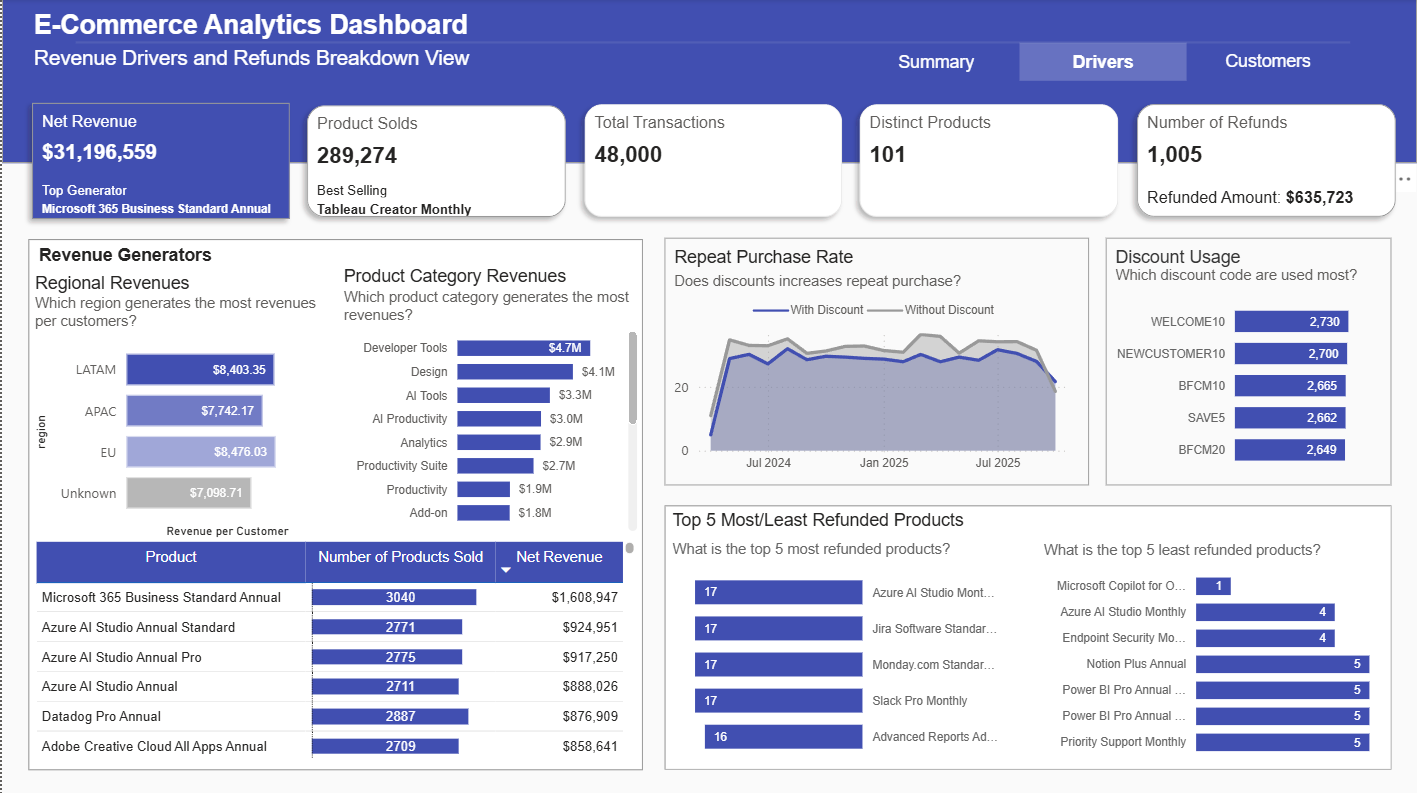

The page's visual inventory and layout, read from the dashboard file:
{"tool":"powerbi","page":{"name":"Drivers","canvas":[1280,720],"ordinal":1},"visuals":[{"type":"shape","box":[598.7,457.4,657.9,239.5],"z":2000},{"type":"shape","box":[24,216.9,556.1,480.6],"z":3000},{"type":"shape","box":[0,0,1279.7,148.6],"z":4000},{"type":"tableEx","fields":{"Values":["Products.product_name","Sum(Events.quantity)","Events.Net Revenue"]},"box":[24.5,486.2,552.6,204.9],"z":5000},{"type":"barChart","title":"Discount Usage","fields":{"Category":["Events.discount_code"],"Y":["Events.Total Transactions"]},"box":[998.4,216.4,258.3,223.6],"z":6000},{"type":"cardVisual","fields":{"Data":["Events.Total Orders"]},"box":[518.9,87.2,249.3,118.7],"z":7000},{"type":"cardVisual","fields":{"Data":["Customers.Products"]},"box":[768.2,87.2,250.5,118.7],"z":8000},{"type":"textbox","box":[24.3,5.7,760,38.6],"z":9000},{"type":"textbox","box":[24.3,38.6,760,35.7],"z":10000},{"type":"cardVisual","fields":{"Data":["Events.Total Revenue"]},"box":[18.8,86,249.6,121.2],"z":11000},{"type":"shape","box":[66.4,26.6,1152.8,26.6],"z":12000},{"type":"barChart","title":"What is the top 5 most refunded products?","fields":{"Category":["Products.product_name"],"Y":["Events.Total Refunds"]},"box":[601.1,490,320,207.8],"z":13000},{"type":"cardVisual","fields":{"Data":["Events.Total Refunds"]},"box":[1018.7,87.2,250.5,118.7],"z":14000},{"type":"cardVisual","fields":{"Data":["Events.Product Solds"]},"box":[268.4,87.8,250.5,117.5],"z":15000},{"type":"lineChart","title":"Repeat Purchase Rate","fields":{"Y":["Events.Repeat Purchase Rate"],"Category":["Events.event_date.Variation.Date Hierarchy.Year","Events.event_date.Variation.Date Hierarchy.Month"],"Series":["Events.is_discounted?"]},"box":[598.7,216.4,383.8,223.6],"z":16000},{"type":"barChart","title":"Product Category Revenues","fields":{"Category":["Products.category"],"Y":["Events.Net Revenue"]},"box":[304.4,242.4,275.6,243.8],"z":17000},{"type":"barChart","title":"Regional Revenues","fields":{"Category":["Events.region"],"Y":["Events.Revenue per Customer"]},"box":[24.5,248.2,276,243.8],"z":18000},{"type":"textbox","box":[28.8,218.1,250.5,28.8],"z":19000},{"type":"barChart","title":"What is the top 5 least refunded products?","fields":{"Y":["Events.Total Refunds"],"Category":["Products.product_name"]},"box":[937.3,490.7,320,204.6],"z":20000},{"type":"textbox","box":[601.6,457.4,617.5,28.9],"z":21000},{"type":"actionButton","box":[770,40,150,34.4],"z":27000},{"type":"actionButton","box":[920,40,151.1,34.4],"z":28000},{"type":"actionButton","box":[1071.1,38.9,148.9,35.6],"z":29000}]}

Visuals, with their boxes in screenshot pixels (x1, y1, x2, y2), scaled from the page's 1280x720 canvas onto the 1417x793 screenshot:
shape: select_region(663, 504, 1391, 768)
shape: select_region(27, 239, 642, 768)
shape: select_region(0, 0, 1416, 164)
tableEx - Products.product_name x Sum(Events.quantity): select_region(27, 535, 639, 761)
"Discount Usage" barChart: select_region(1105, 238, 1391, 485)
cardVisual - Events.Total Orders: select_region(574, 96, 850, 227)
cardVisual - Customers.Products: select_region(850, 96, 1128, 227)
textbox: select_region(27, 6, 868, 49)
textbox: select_region(27, 43, 868, 82)
cardVisual - Events.Total Revenue: select_region(21, 95, 297, 228)
shape: select_region(74, 29, 1350, 59)
"What is the top 5 most refunded products?" barChart: select_region(665, 540, 1020, 769)
cardVisual - Events.Total Refunds: select_region(1128, 96, 1405, 227)
cardVisual - Events.Product Solds: select_region(297, 97, 574, 226)
"Repeat Purchase Rate" lineChart: select_region(663, 238, 1088, 485)
"Product Category Revenues" barChart: select_region(337, 267, 642, 535)
"Regional Revenues" barChart: select_region(27, 273, 333, 542)
textbox: select_region(32, 240, 309, 272)
"What is the top 5 least refunded products?" barChart: select_region(1038, 540, 1392, 766)
textbox: select_region(666, 504, 1350, 536)
actionButton: select_region(852, 44, 1018, 82)
actionButton: select_region(1018, 44, 1186, 82)
actionButton: select_region(1186, 43, 1351, 82)
